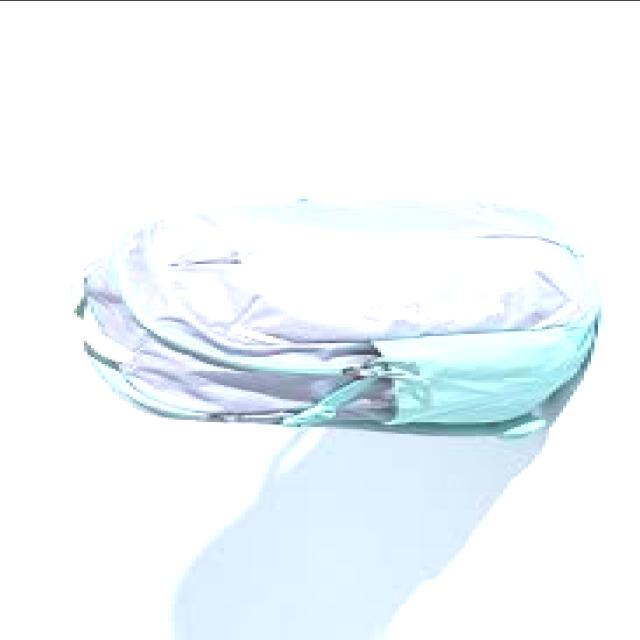backpack: (61, 199, 599, 441)
